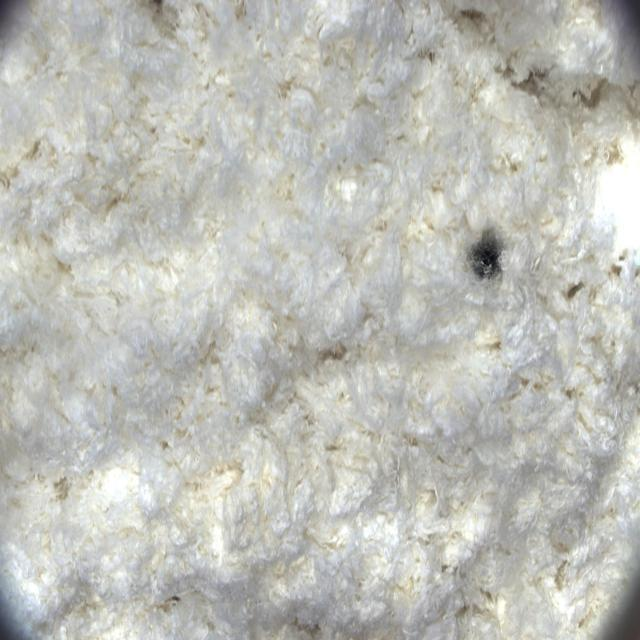dust: (454, 203, 527, 317)
